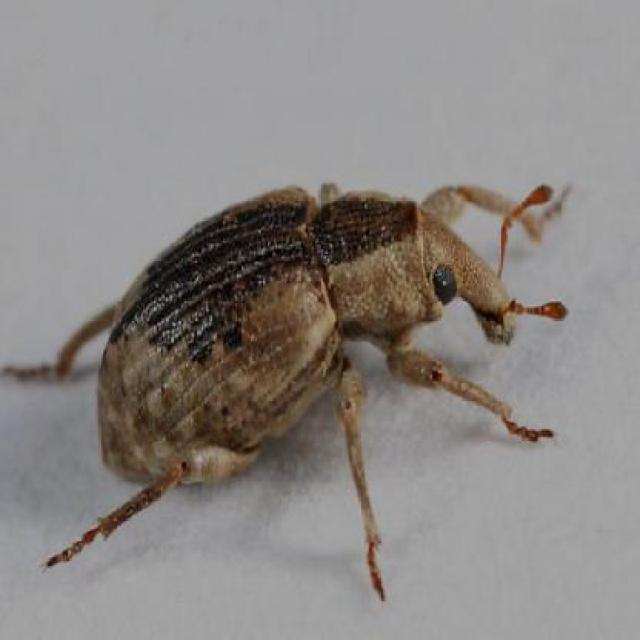rice-bug: (56, 184, 538, 553)
